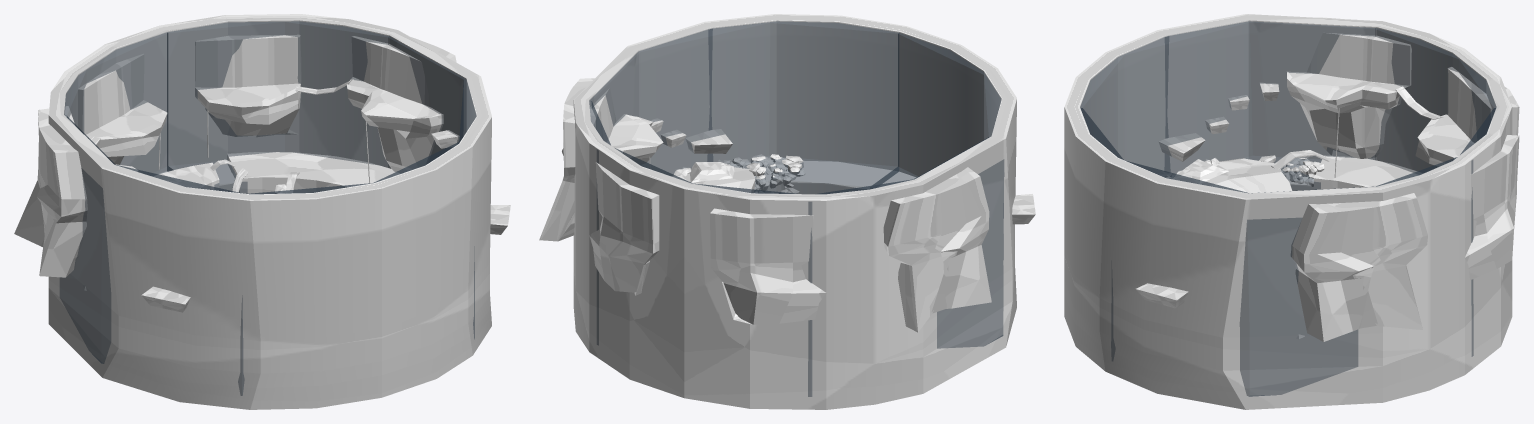
File: LevelDesign_new_02.fbx
The picture shows the model from 3 angles, left to right: view 1: azimuth 30°, elevation 25°; view 2: azimuth 150°, elevation 25°; view 3: azimuth 270°, elevation 25°; orthographic projection.
Visible parts, largest first — view 1: polySurface742; view 2: polySurface742; view 3: polySurface742.
Boxes of the visible parts, x1,y1,x2,y2 form: polySurface742: [14, 14, 510, 409]; polySurface742: [539, 14, 1035, 409]; polySurface742: [1064, 14, 1519, 409].
Size of the model in its own units: 77.64 by 37.58 by 71.16.
